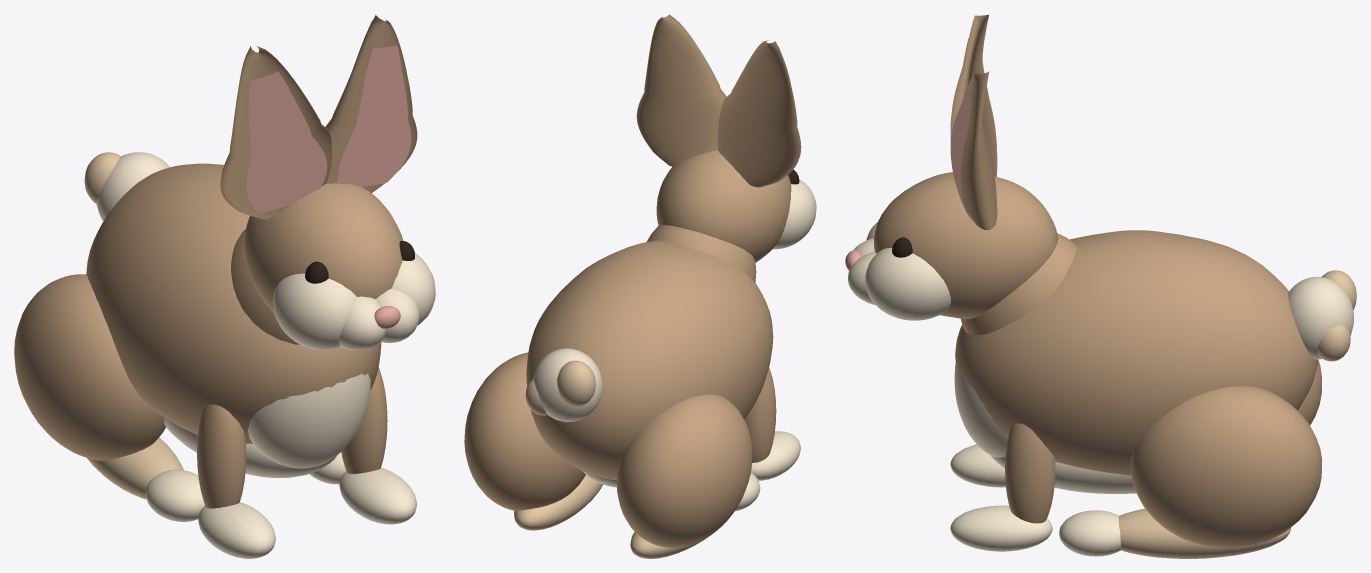
File: harebell-rabbit.glb
The picture shows the model from 3 angles, left to right: view 1: azimuth 30°, elevation 25°; view 2: azimuth 150°, elevation 25°; view 3: azimuth 270°, elevation 25°; orthographic projection. The views are drawn at different scales.
Parts seen in each view (by area): view 1: Body, Haunch_L, Head, EarInner_L, Chest, EarInner_R, Ear_L, Cheek_L, FrontLeg_L, Ear_R, FrontPaw_R, FrontPaw_L (+11 smaller); view 2: Body, Haunch_L, Haunch_R, Head, Ear_R, Ear_L, Tail, Neck, HindFoot_R, FrontLeg_L, Cheek_L, FrontPaw_L (+3 smaller); view 3: Body, Haunch_R, Head, Cheek_R, FrontLeg_R, Ear_R, Neck, FrontPaw_R, HindFoot_R, Tail, Toe_R, Ear_L (+7 smaller).
Part boxes in pixels (left/top/right/bottom): Body: left=86, top=163, right=381, bottom=443; Haunch_L: left=14, top=274, right=165, bottom=460; Head: left=244, top=183, right=403, bottom=312; EarInner_L: left=246, top=71, right=327, bottom=213; Chest: left=247, top=373, right=370, bottom=468; EarInner_R: left=337, top=45, right=411, bottom=186; Ear_L: left=220, top=46, right=331, bottom=219; Cheek_L: left=273, top=273, right=356, bottom=350; FrontLeg_L: left=197, top=404, right=246, bottom=508; Ear_R: left=325, top=15, right=417, bottom=192; FrontPaw_R: left=339, top=467, right=416, bottom=524; FrontPaw_L: left=198, top=502, right=275, bottom=558; Body: left=526, top=240, right=773, bottom=479; Haunch_L: left=616, top=394, right=752, bottom=547; Haunch_R: left=464, top=352, right=585, bottom=510; Head: left=656, top=150, right=791, bottom=262; Ear_R: left=636, top=14, right=726, bottom=166; Ear_L: left=717, top=40, right=801, bottom=187; Tail: left=533, top=348, right=602, bottom=421; Neck: left=647, top=225, right=756, bottom=282; HindFoot_R: left=514, top=475, right=603, bottom=530; FrontLeg_L: left=744, top=367, right=776, bottom=462; Cheek_L: left=772, top=179, right=816, bottom=249; FrontPaw_L: left=751, top=431, right=800, bottom=480; Body: left=955, top=230, right=1317, bottom=475; Haunch_R: left=1130, top=386, right=1321, bottom=548; Head: left=874, top=172, right=1058, bottom=319; Cheek_R: left=865, top=248, right=951, bottom=320; FrontLeg_R: left=1005, top=423, right=1055, bottom=523; Ear_R: left=960, top=70, right=997, bottom=230; Neck: left=961, top=233, right=1076, bottom=335; FrontPaw_R: left=950, top=505, right=1052, bottom=551; HindFoot_R: left=1118, top=508, right=1290, bottom=558; Tail: left=1288, top=276, right=1353, bottom=359; Toe_R: left=1059, top=510, right=1121, bottom=556; Ear_L: left=951, top=14, right=997, bottom=176.
Bounding box in the file's own units: 0.8079 × 1.29 × 1.25.
